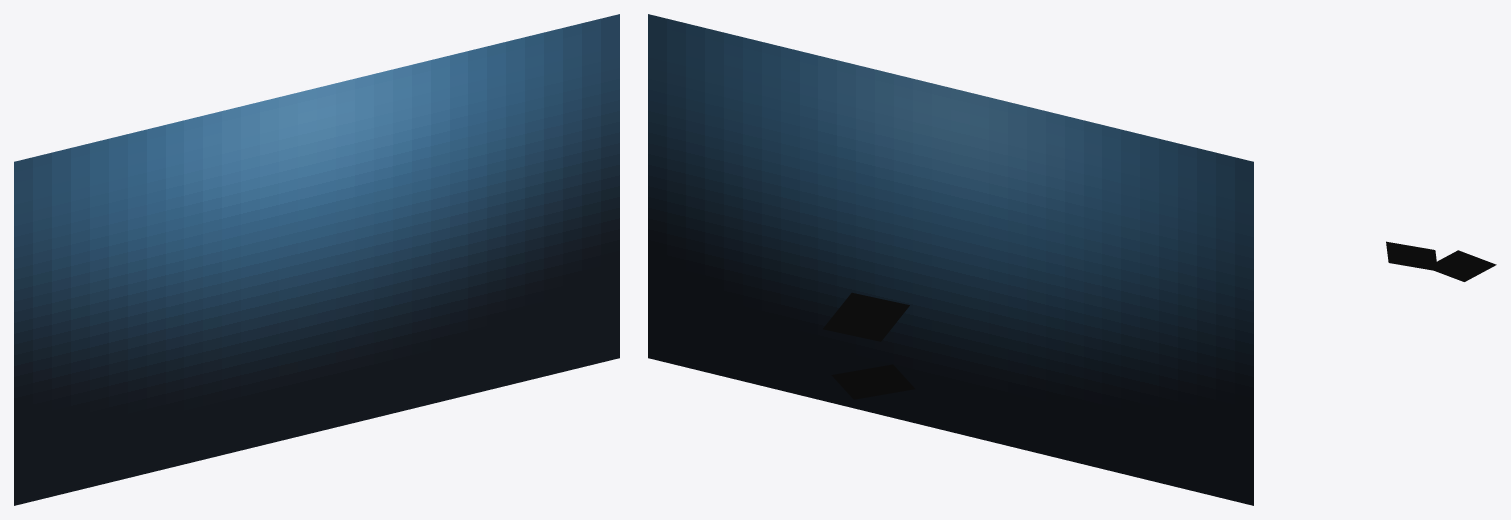
File: BPWelcomeScreenUI.fbx
3 renders of one model, left to right at view 1: azimuth 30°, elevation 25°; view 2: azimuth 150°, elevation 25°; view 3: azimuth 270°, elevation 25°, orthographic. The views are drawn at different scales.
Visible parts, largest first — view 1: Background (1); view 2: Background (1), Quad (×2); view 3: Quad (×2).
Boxes of the visible parts, box(x1,y1,x2,y2) form: Background (1): box(14, 14, 619, 505); Background (1): box(648, 14, 1253, 505); Quad (×2): box(823, 292, 914, 399); Quad (×2): box(1386, 241, 1496, 281).
Bounding box in the file's own units: 12257 × 6652 × 4897.
